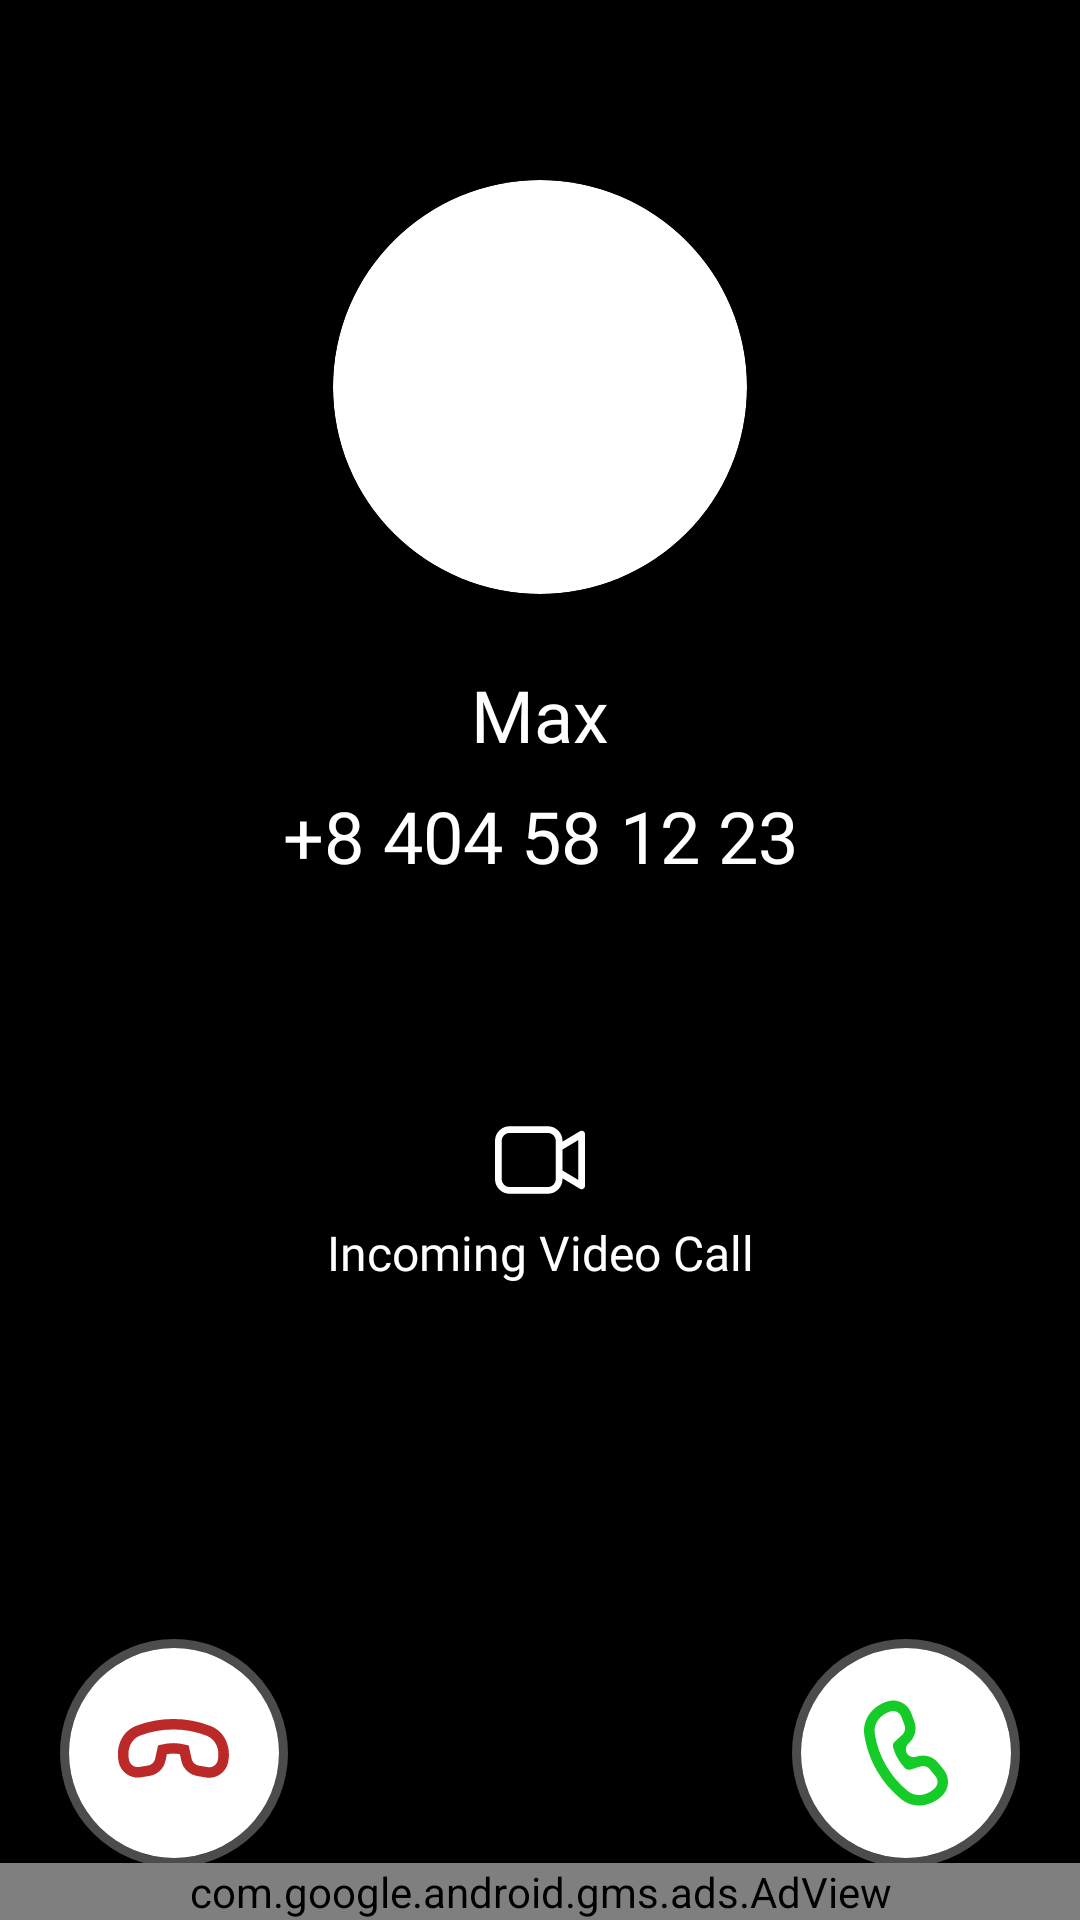

Named icons in this screenshot (1080×1920) and their bounding boxes, detection(x1, y1, x2, y2):
call accept: detection(792, 1639, 1020, 1867)
